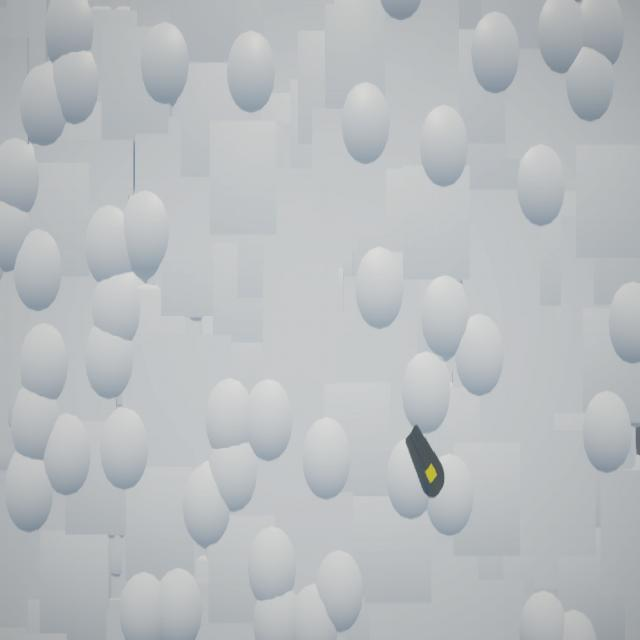handle_folk: (406, 425, 445, 500)
